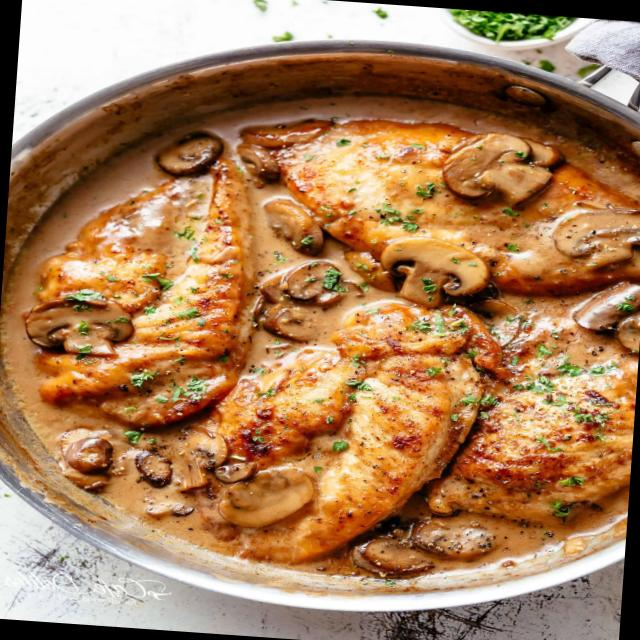chicken: (5, 25, 640, 586)
